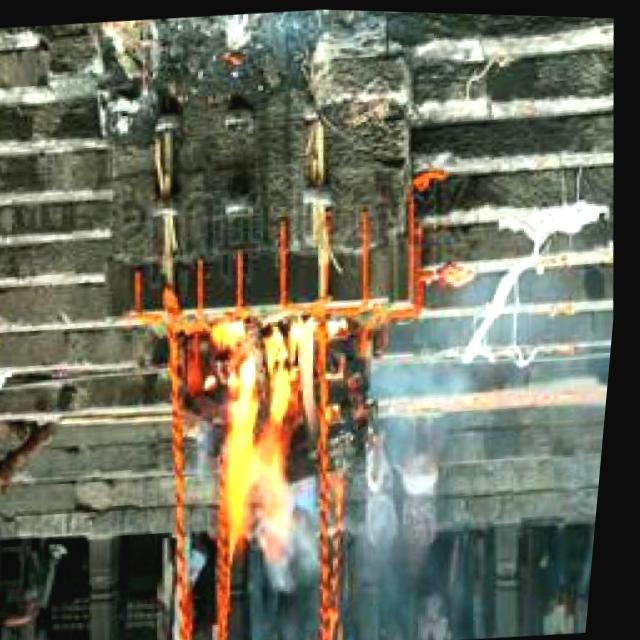Fire: (206, 307, 349, 558)
